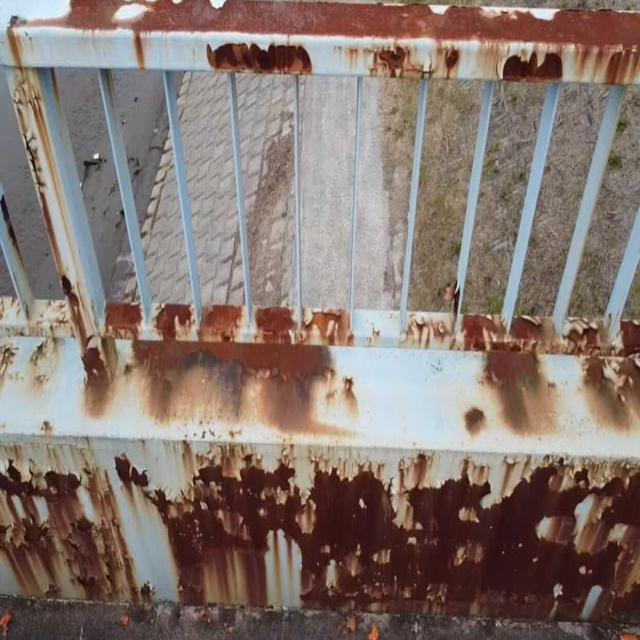corrosion: (15, 9, 640, 621)
